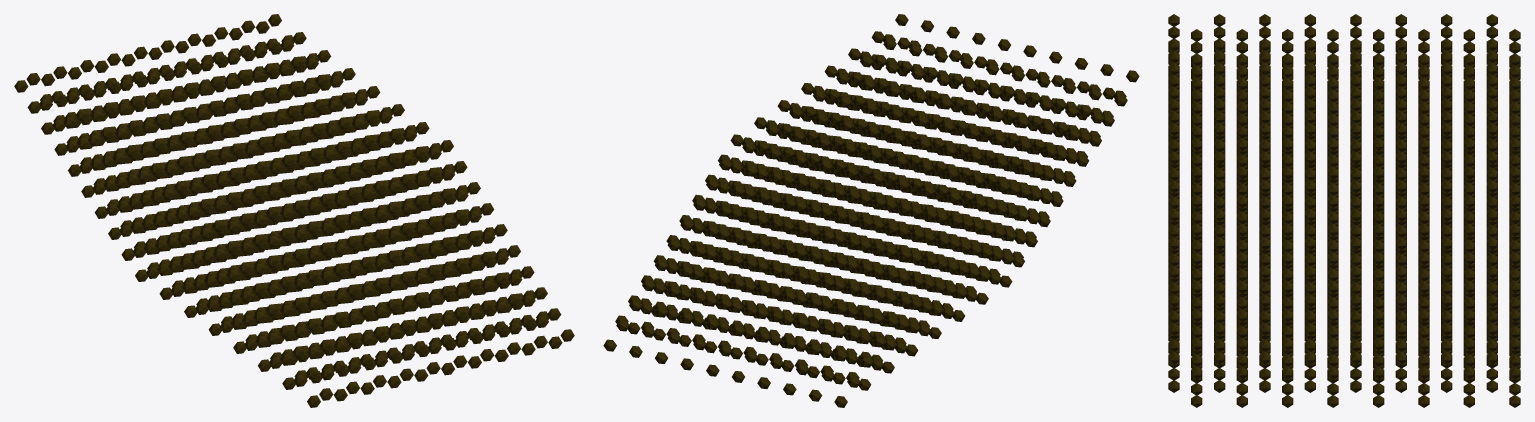
Rendered from ti_hcp.glb.
The picture shows the model from 3 angles, left to right: view 1: azimuth 30°, elevation 25°; view 2: azimuth 150°, elevation 25°; view 3: azimuth 270°, elevation 25°; orthographic projection. The views are drawn at different scales.
Size of the model in its own units: 40.99 by 25.86 by 36.26.
